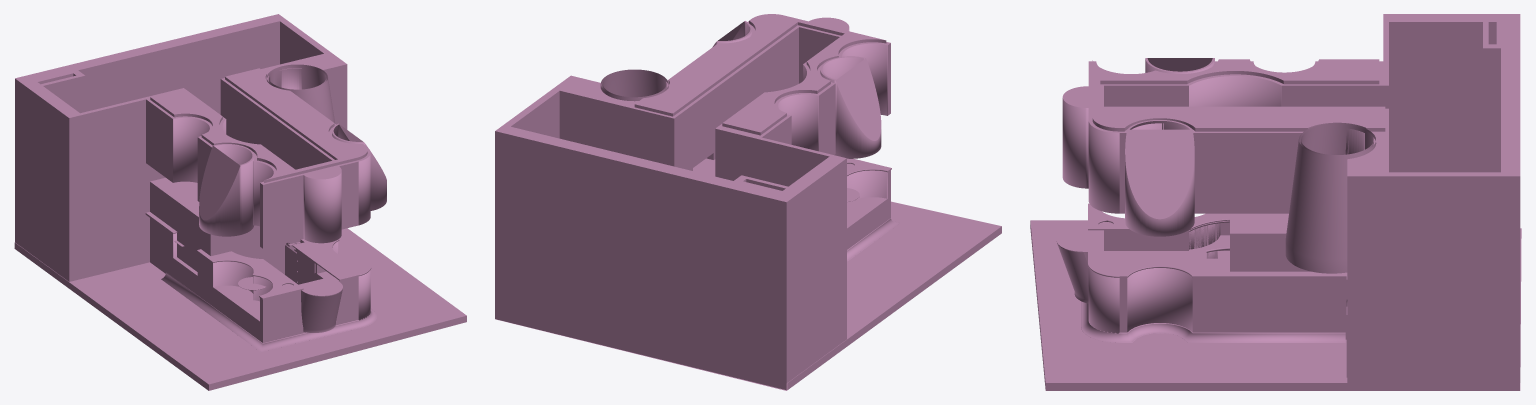
The model's file is asset.glb.
3 views of the same model, side by side, from view 1: azimuth 30°, elevation 25°; view 2: azimuth 150°, elevation 25°; view 3: azimuth 270°, elevation 25° (orthographic). The views are drawn at different scales.
Visible parts, largest first — view 1: the final model.001, Cube.001; view 2: the final model.001; view 3: the final model.001, Cube.001.
Part boxes in pixels (bbox=[...]): the final model.001: bbox=[14, 14, 466, 390]; Cube.001: bbox=[150, 177, 286, 274]; the final model.001: bbox=[495, 14, 1001, 390]; the final model.001: bbox=[1030, 14, 1521, 390]; Cube.001: bbox=[1230, 213, 1310, 271].
Bounding box in the file's own units: 4.98 × 3.12 × 6.36.
